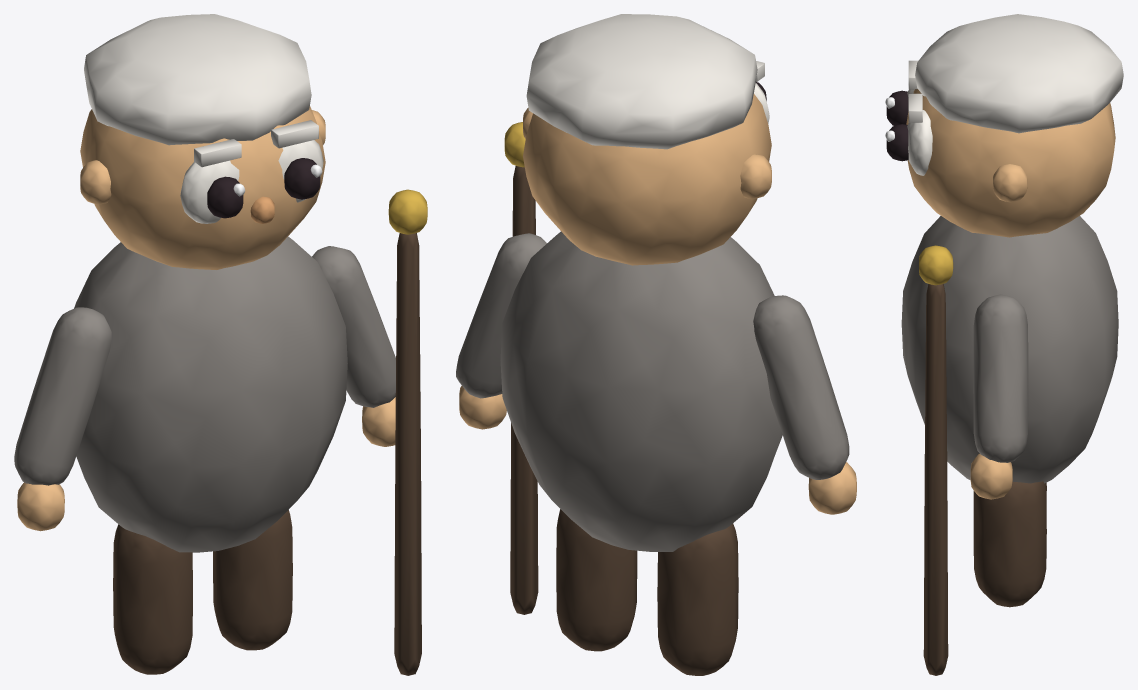
The model's file is npc_bram.glb.
The picture shows the model from 3 angles, left to right: view 1: azimuth 30°, elevation 25°; view 2: azimuth 150°, elevation 25°; view 3: azimuth 270°, elevation 25°; orthographic projection. The views are drawn at different scales.
Parts seen in each view (by area): view 1: npc_bram_part_2, npc_bram_part_19, npc_bram_part_7, npc_bram_part_17, npc_bram_part_3, npc_bram_part_0, npc_bram_part_1, npc_bram_part_5, npc_bram_part_4, npc_bram_part_8, npc_bram_part_18, npc_bram_part_6 (+6 smaller); view 2: npc_bram_part_2, npc_bram_part_7, npc_bram_part_19, npc_bram_part_3, npc_bram_part_0, npc_bram_part_1, npc_bram_part_5, npc_bram_part_17, npc_bram_part_4, npc_bram_part_6, npc_bram_part_15, npc_bram_part_18; view 3: npc_bram_part_2, npc_bram_part_19, npc_bram_part_7, npc_bram_part_17, npc_bram_part_5, npc_bram_part_1, npc_bram_part_6, npc_bram_part_11, npc_bram_part_18, npc_bram_part_16, npc_bram_part_12, npc_bram_part_9 (+1 smaller).
Part boxes in pixels (x1,y1,x2,y2): npc_bram_part_2: (74,236,347,552); npc_bram_part_19: (84,14,311,145); npc_bram_part_7: (80,106,325,269); npc_bram_part_17: (394,233,421,675); npc_bram_part_3: (14,307,111,485); npc_bram_part_0: (113,524,192,674); npc_bram_part_1: (213,510,292,650); npc_bram_part_5: (312,246,395,407); npc_bram_part_4: (17,482,64,531); npc_bram_part_8: (180,160,239,223); npc_bram_part_18: (388,189,427,234); npc_bram_part_6: (362,397,395,446); npc_bram_part_2: (500,231,782,551); npc_bram_part_7: (523,94,771,265); npc_bram_part_19: (526,14,757,149); npc_bram_part_3: (753,295,849,479); npc_bram_part_0: (657,523,738,675); npc_bram_part_1: (556,509,637,651); npc_bram_part_5: (456,233,546,398); npc_bram_part_17: (510,166,538,614); npc_bram_part_4: (808,462,856,514); npc_bram_part_6: (459,386,506,429); npc_bram_part_15: (740,154,771,198); npc_bram_part_18: (504,122,525,167); npc_bram_part_2: (901,216,1118,483); npc_bram_part_19: (915,14,1123,133); npc_bram_part_7: (906,89,1115,237); npc_bram_part_17: (923,284,948,675); npc_bram_part_5: (973,294,1028,462); npc_bram_part_1: (973,481,1046,607); npc_bram_part_6: (970,453,1012,499); npc_bram_part_11: (907,110,932,175); npc_bram_part_18: (919,245,953,285); npc_bram_part_16: (993,164,1027,202); npc_bram_part_12: (886,124,908,161); npc_bram_part_9: (886,90,908,125).
Bounding box in the file's own units: 0.8627 × 1.36 × 0.5149.
